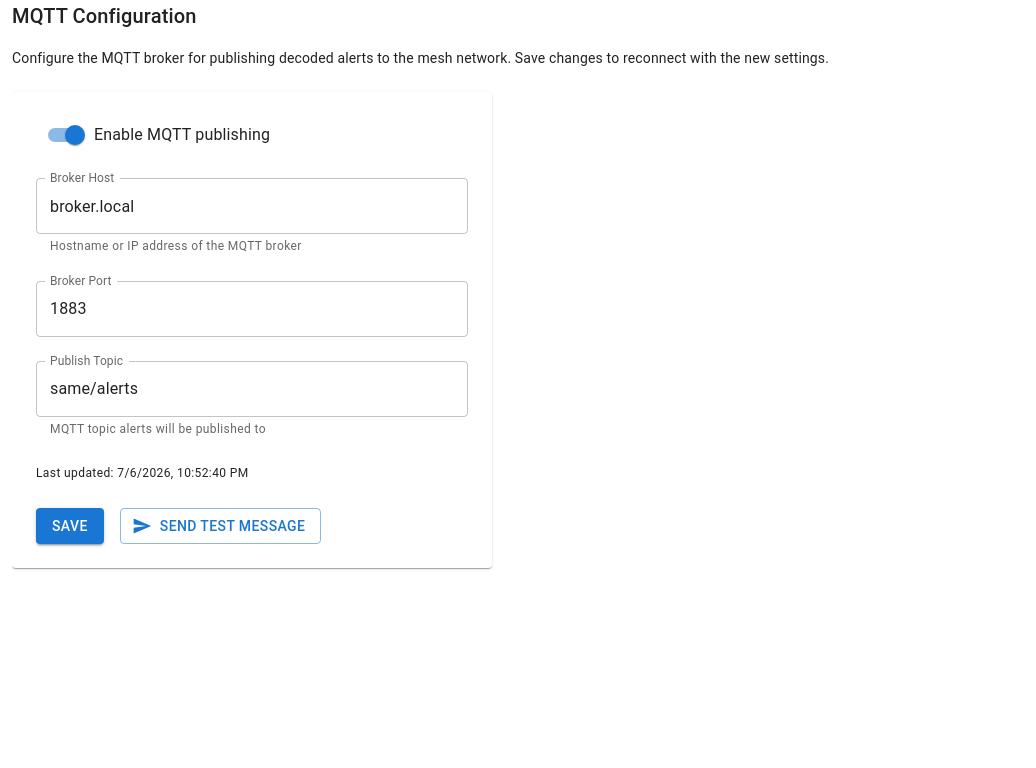
Test: MQTTConfigTab › sends a test message and shows success
Click the button "Send Test Message". click: (221, 526)
box: [120,508,321,544]
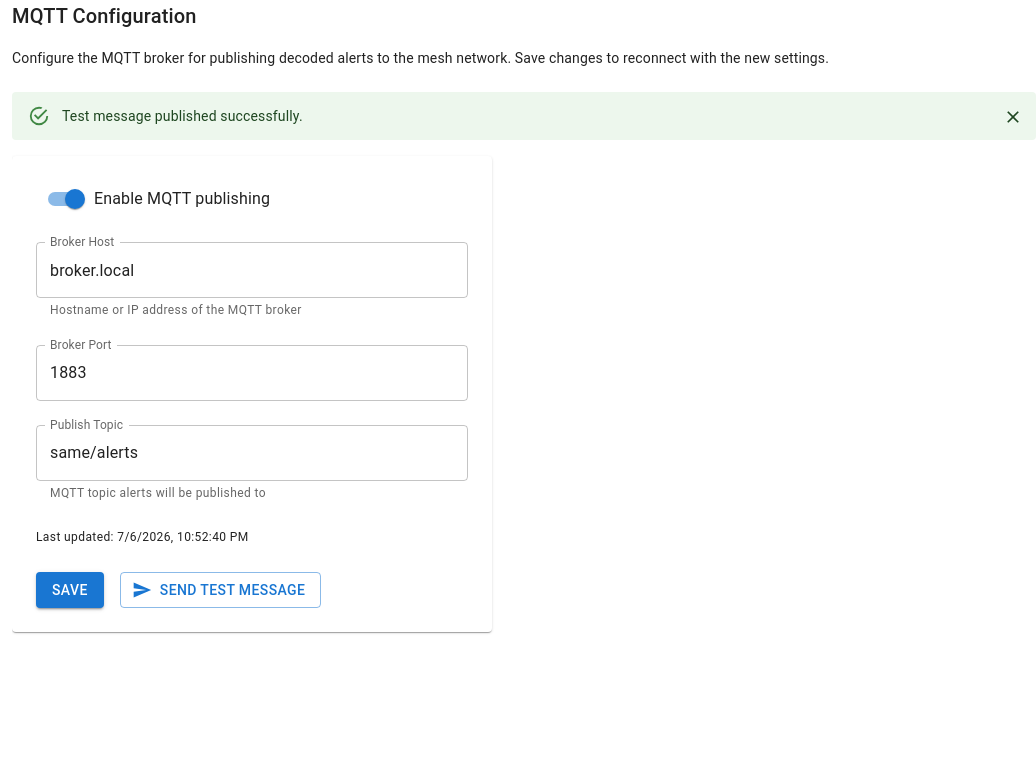
Now the text "Test message published successfully." is shown, box [62,108,303,124]
